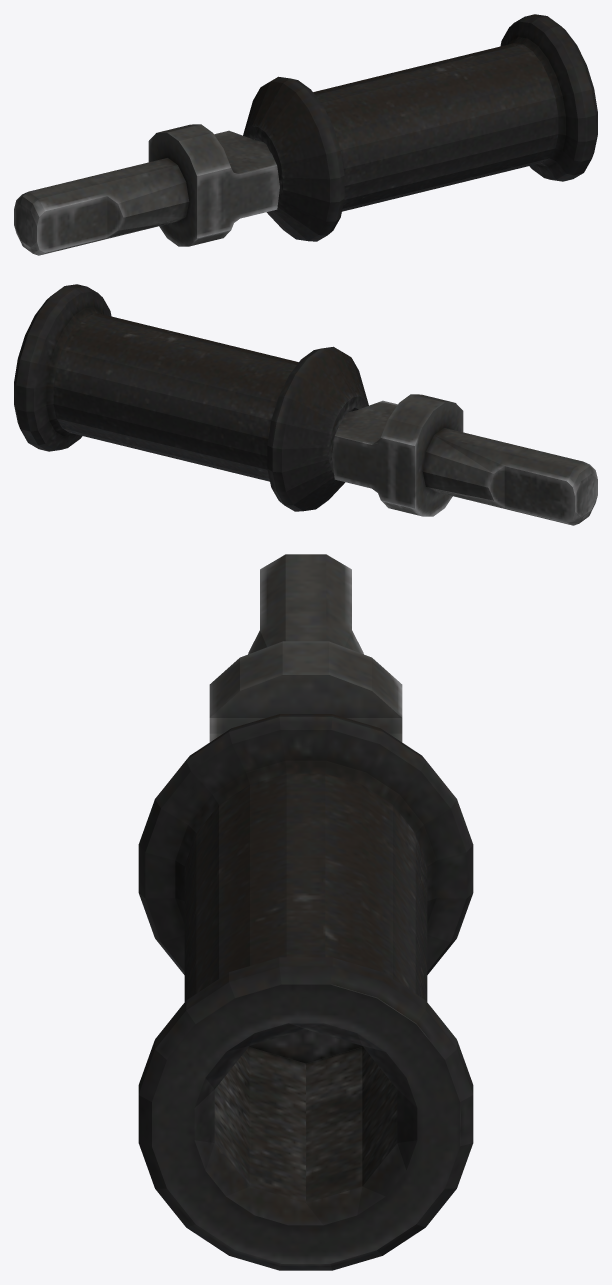
3 views of the same model, one above another, from view 1: azimuth 30°, elevation 25°; view 2: azimuth 150°, elevation 25°; view 3: azimuth 270°, elevation 25° (orthographic). The views are drawn at different scales.
Parts seen in each view (by area): view 1: TW_6181688c6c780c1e710c9b04_PZ_Import; view 2: TW_6181688c6c780c1e710c9b04_PZ_Import; view 3: TW_6181688c6c780c1e710c9b04_PZ_Import.
Boxes of the visible parts, x1,y1,x2,y2 form: TW_6181688c6c780c1e710c9b04_PZ_Import: (14,14,597,255); TW_6181688c6c780c1e710c9b04_PZ_Import: (14,284,597,525); TW_6181688c6c780c1e710c9b04_PZ_Import: (138,554,473,1270).
Size of the model in its own units: 0.0262 by 0.00711 by 0.00711.
1 material, 1 textured.
